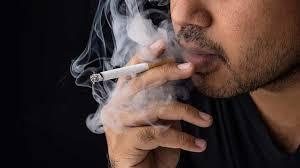smoker: (72, 0, 265, 168)
